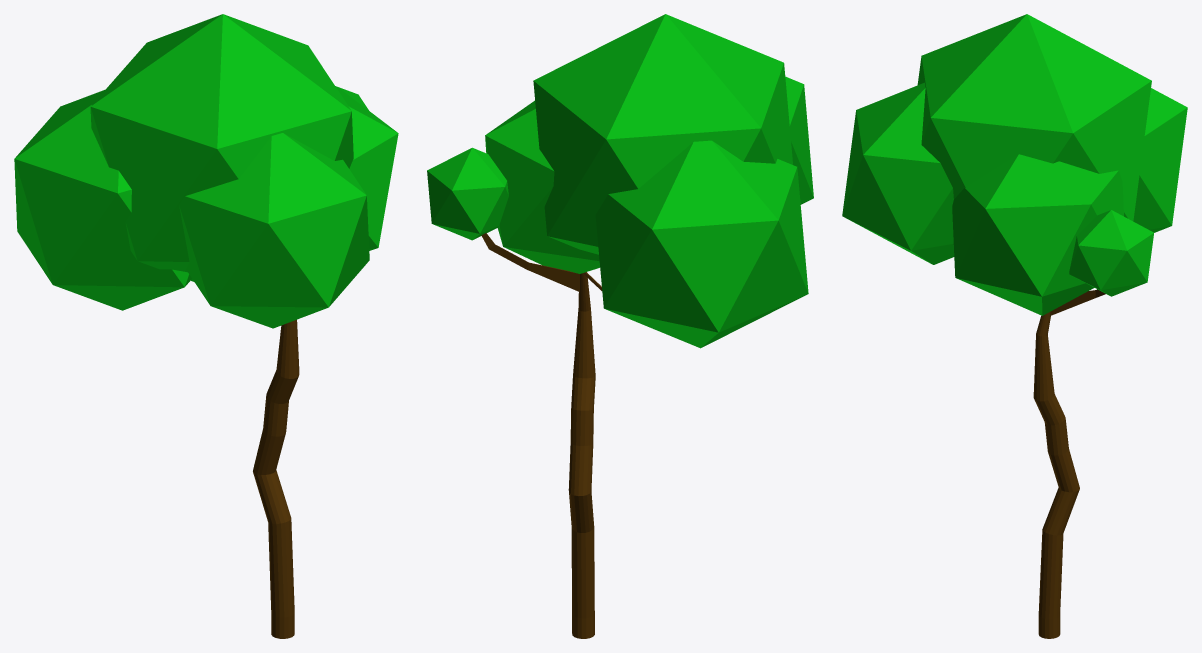
The model's file is Tree_2.fbx.
3 views of the same model, side by side, from view 1: azimuth 30°, elevation 25°; view 2: azimuth 150°, elevation 25°; view 3: azimuth 270°, elevation 25° (orthographic). The views are drawn at different scales.
Parts seen in each view (by area): view 1: Tree_2; view 2: Tree_2; view 3: Tree_2.
Part boxes in pixels (bbox=[...]): Tree_2: bbox=[14, 14, 398, 638]; Tree_2: bbox=[427, 14, 813, 638]; Tree_2: bbox=[842, 14, 1187, 638].
Size of the model in its own units: 190 by 332 by 177.
Materials: 1 (1 with a texture image).
